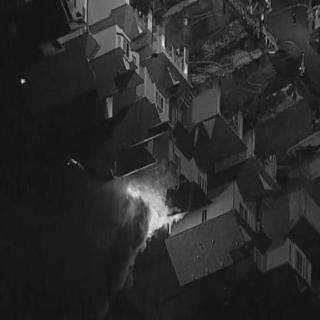Fire: (119, 178, 183, 242)
Smoke: (105, 202, 152, 290)
